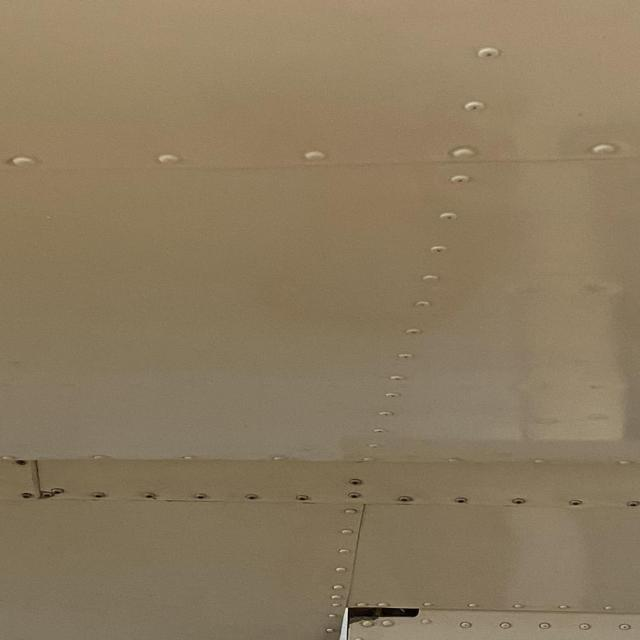Paint-off: (345, 615, 384, 626)
